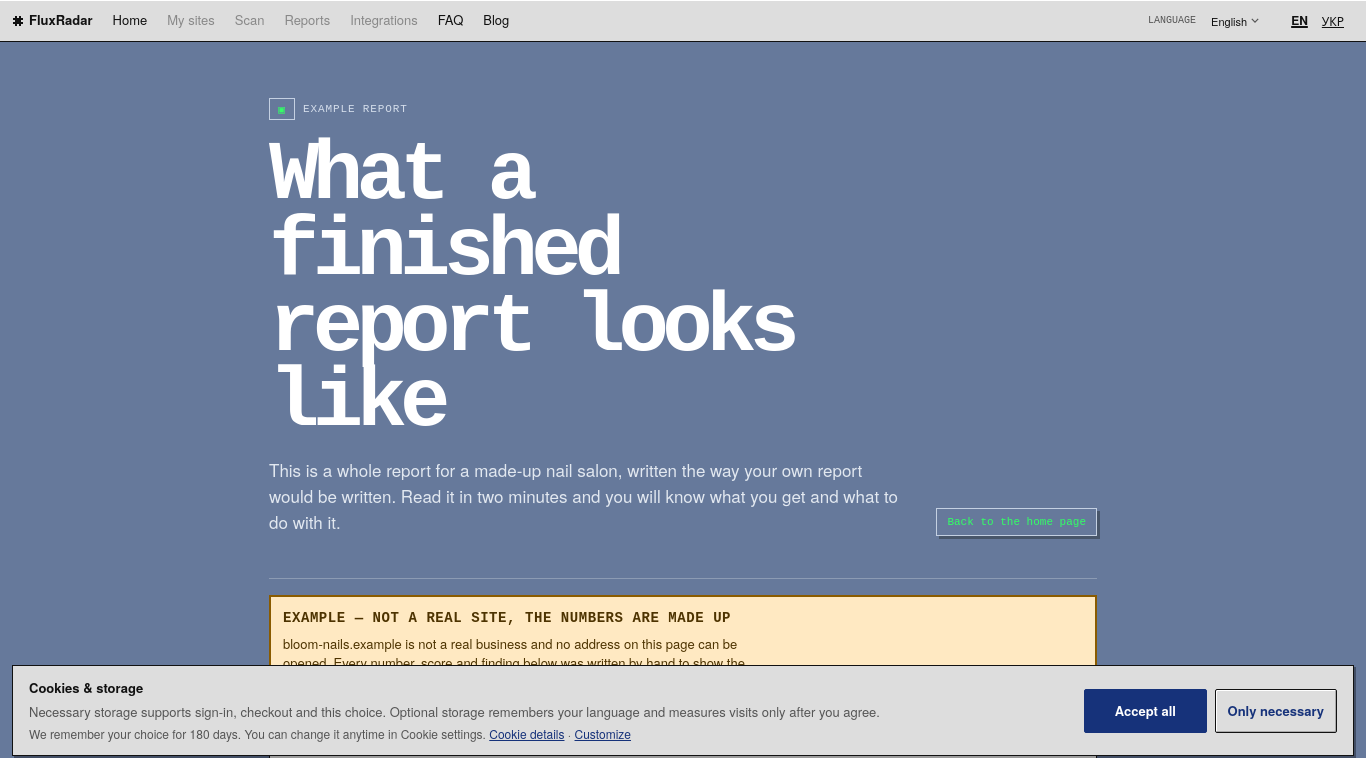
the route › follows the language switch like the rest of the site
Expected: the heading "What a finished report looks like" is shown, left=269, top=128, right=793, bottom=450
Click the dropdown named "Language": (1235, 21) left=1201, top=9, right=1269, bottom=33
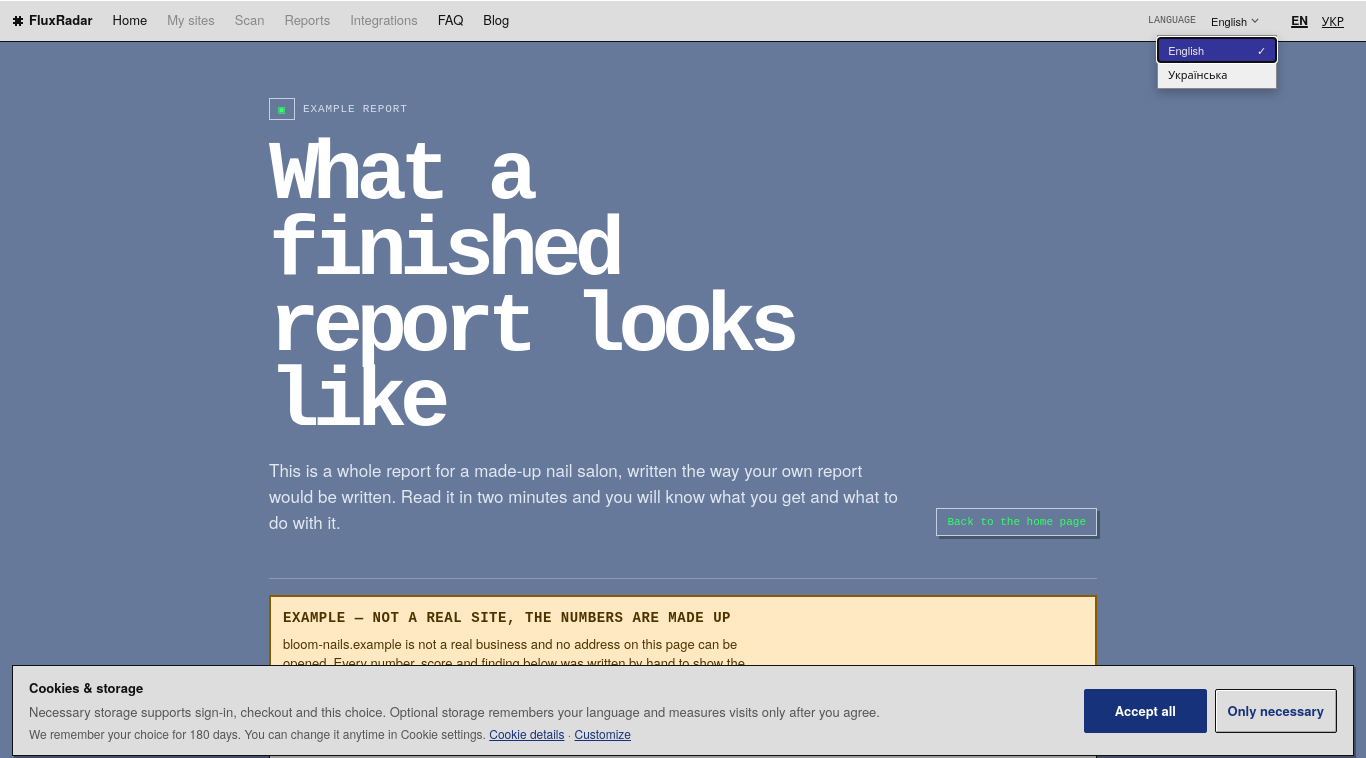
Click the option "Українська": (1198, 74) left=1168, top=66, right=1228, bottom=82
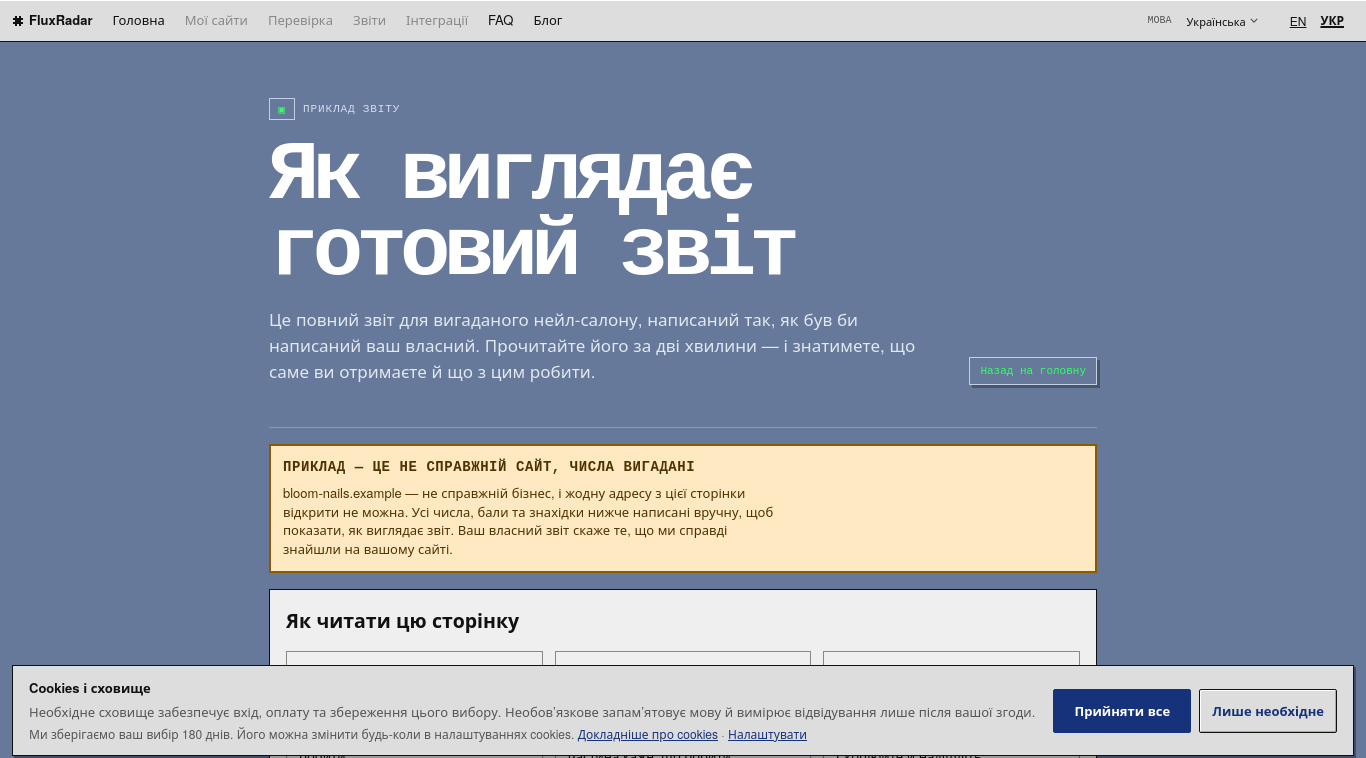
Result: the heading "Як виглядає готовий звіт" is shown at left=269, top=128, right=793, bottom=299
Result: the heading "What a finished report looks like" is gone
